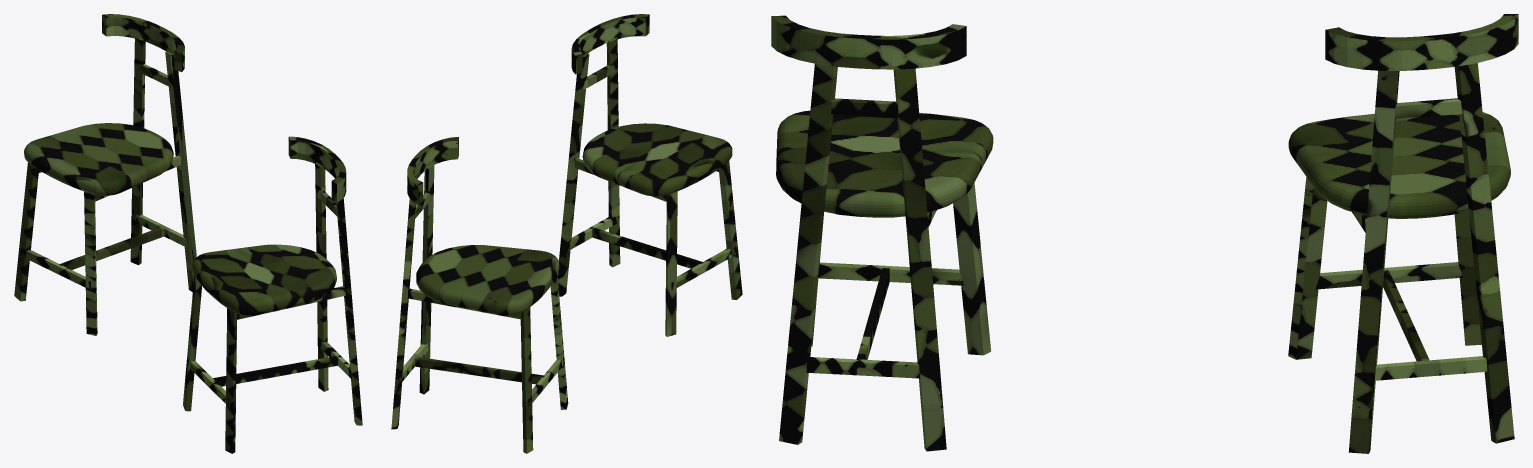
Rendered from modern_scandinavian_kitchen_island_10.obj.
3 renders of one model, left to right at view 1: azimuth 30°, elevation 25°; view 2: azimuth 150°, elevation 25°; view 3: azimuth 270°, elevation 25°, orthographic. The views are drawn at different scales.
Size of the model in its own units: 0.5295 by 0.8866 by 1.48.
